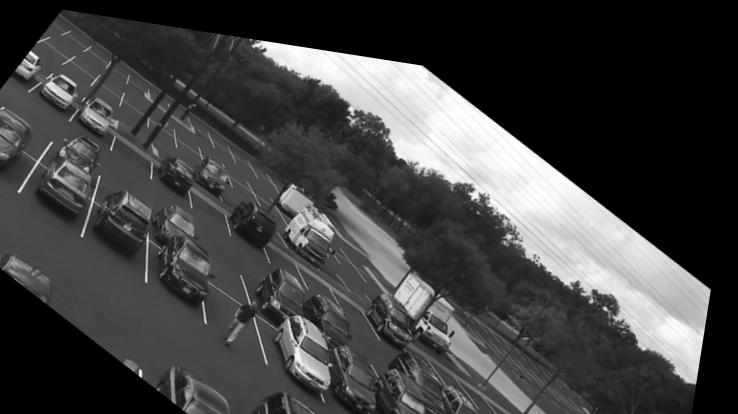empty: (73, 287, 153, 370), (221, 274, 279, 353), (13, 95, 63, 138), (113, 129, 158, 175), (344, 282, 385, 323), (473, 368, 514, 408), (306, 255, 347, 292), (495, 381, 539, 414), (198, 185, 233, 224), (222, 238, 250, 286), (336, 232, 370, 265), (440, 345, 476, 376), (112, 165, 147, 196), (62, 57, 99, 86), (276, 237, 310, 267), (36, 38, 72, 65), (152, 113, 182, 144), (122, 93, 152, 123), (367, 328, 399, 356), (93, 76, 124, 104), (47, 33, 79, 57), (98, 69, 130, 93), (263, 186, 291, 213), (235, 170, 264, 196), (151, 101, 177, 129), (74, 51, 105, 74), (106, 55, 132, 81), (127, 84, 152, 110), (178, 118, 204, 143), (255, 169, 281, 193), (32, 42, 58, 66), (86, 42, 114, 63), (194, 108, 215, 136), (180, 131, 205, 154), (204, 133, 227, 158), (230, 154, 255, 177), (217, 128, 238, 153), (129, 68, 151, 91), (258, 157, 281, 179), (67, 28, 91, 48), (239, 143, 258, 165), (229, 182, 254, 195), (50, 17, 69, 32), (163, 139, 182, 152), (43, 28, 53, 37)
occupied: (276, 303, 343, 382), (168, 350, 243, 414), (163, 226, 221, 301), (102, 183, 158, 257), (41, 149, 100, 218), (336, 332, 386, 407), (1, 244, 64, 301), (372, 280, 431, 338), (290, 193, 341, 257), (386, 354, 440, 414), (401, 337, 454, 395), (309, 280, 362, 335), (0, 102, 41, 172), (232, 192, 282, 248), (254, 380, 335, 414), (262, 257, 312, 308), (455, 369, 494, 414), (158, 199, 201, 239), (161, 150, 200, 191), (197, 149, 236, 188), (81, 93, 116, 133), (42, 72, 80, 108), (69, 134, 104, 165), (14, 49, 45, 83)
